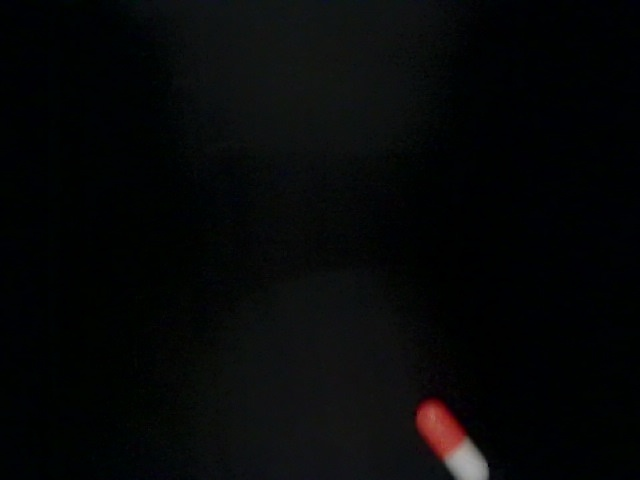YHLJ: (326, 391, 426, 464)
